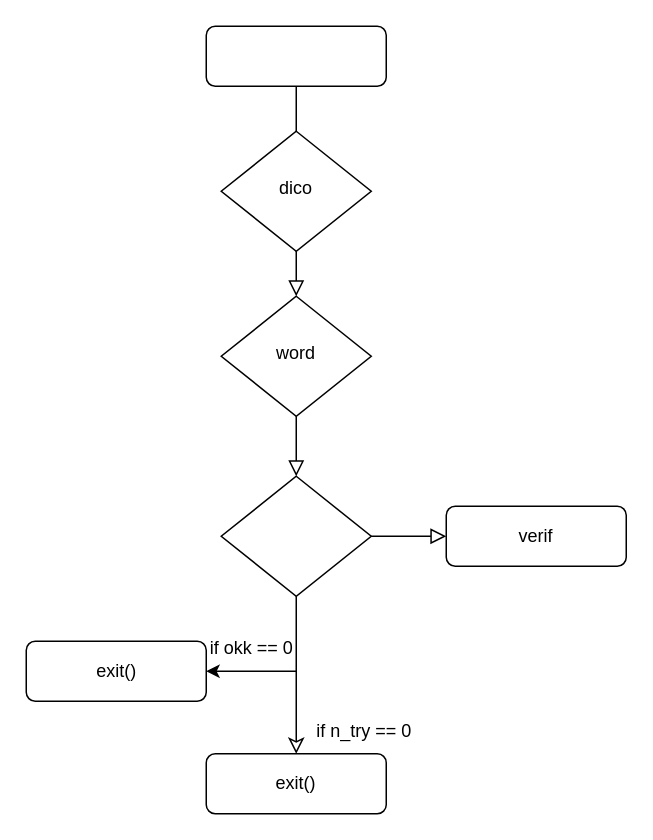
The diagram is 653 pixels wide and 840 high, and some of its shapes have lost their labels. The centre of each missing label's shape, as x and y in pixels:
"Main" belongs at (x=295, y=55).
"saisie" belongs at (x=295, y=535).
